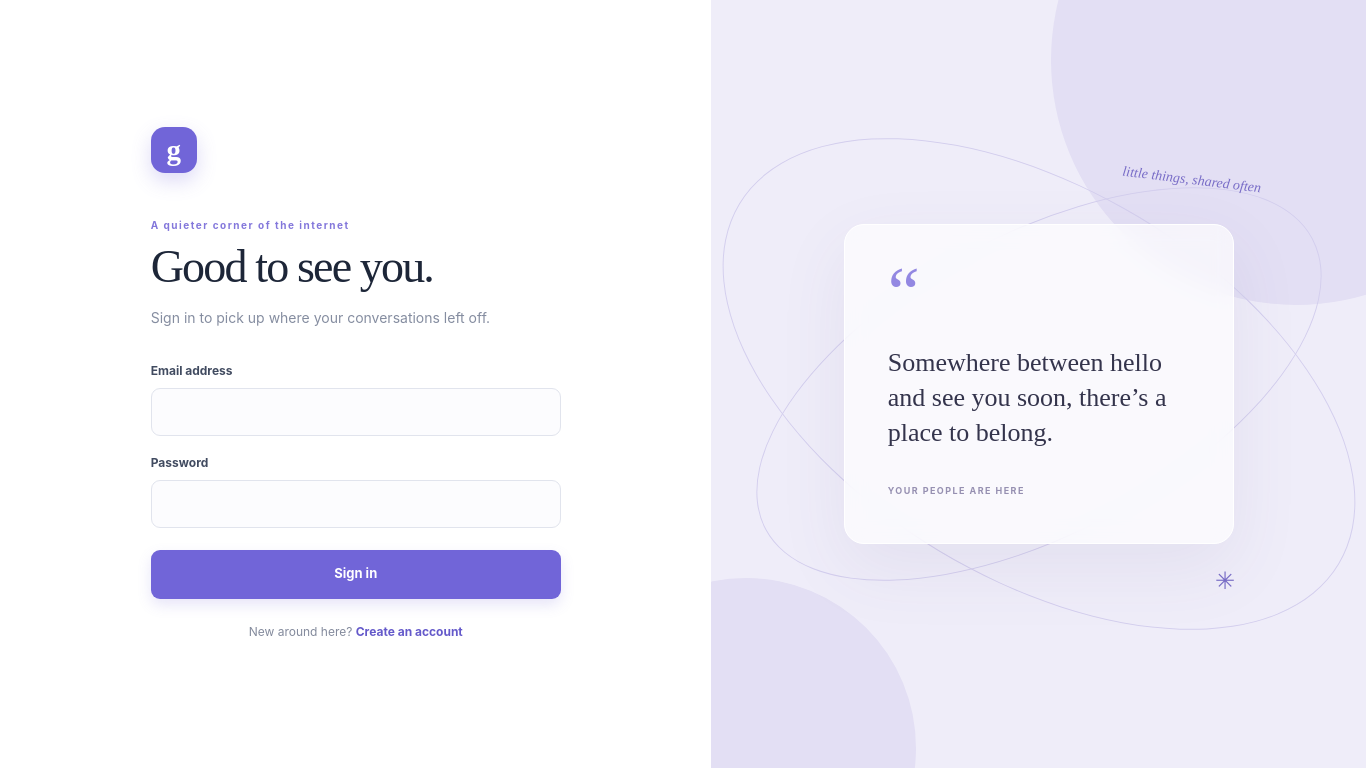
Test: chat client › shows an accessible sign-in error when credentials are rejected
Type "person@example.test" into the field labelled "Email address" at (356, 412), box [151, 388, 561, 436]
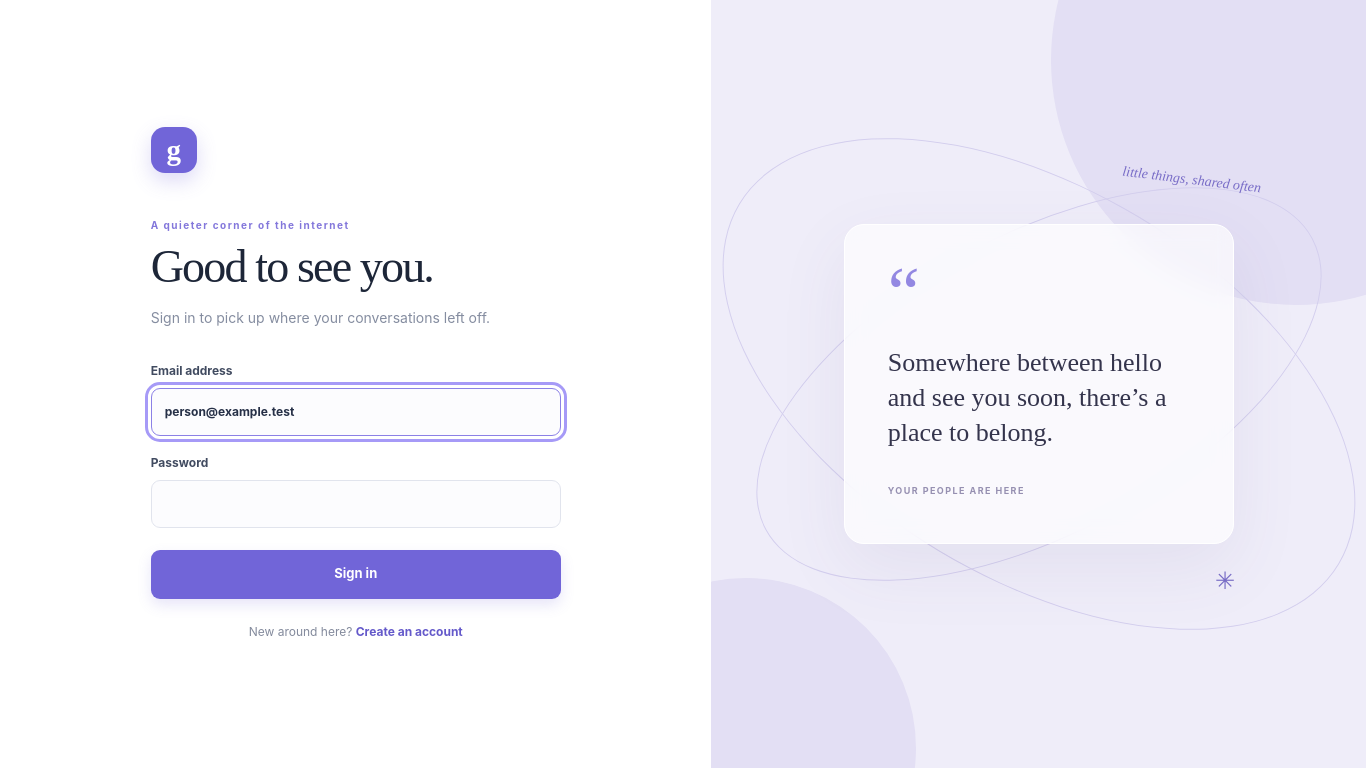
Type "wrong-password" into the password field labelled "Password" at (356, 504), box [151, 480, 561, 528]
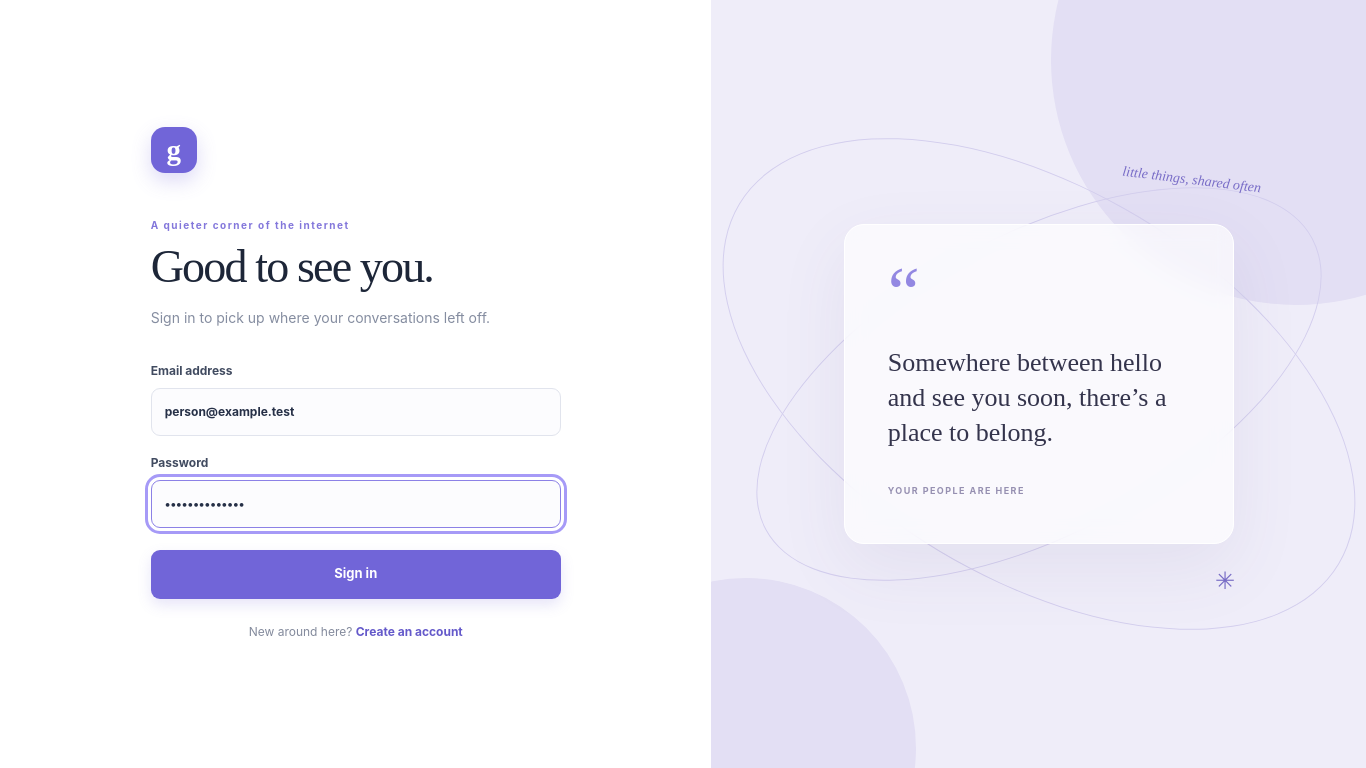
Click the button "Sign in" at (356, 574), box [151, 550, 561, 599]
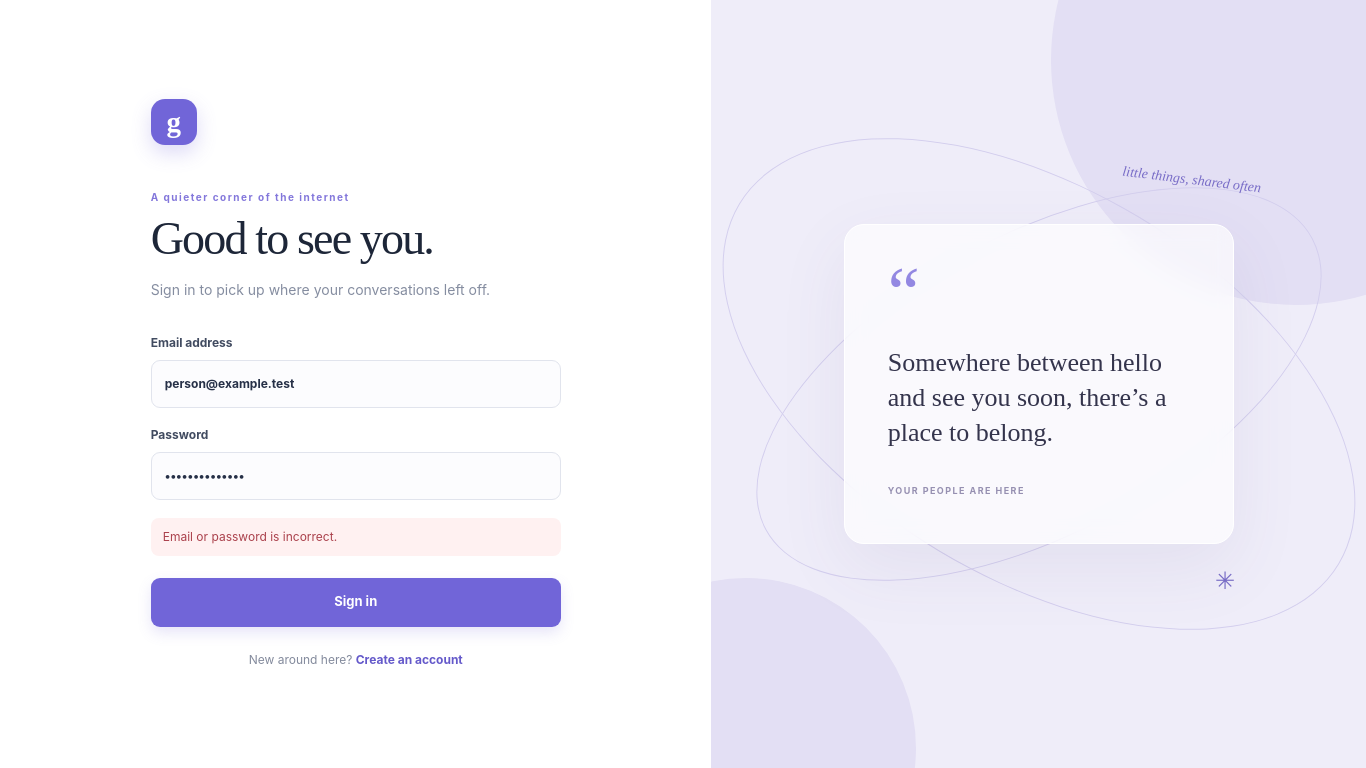
Now the message reads "Email or password is incorrect.", box [163, 529, 337, 544]
